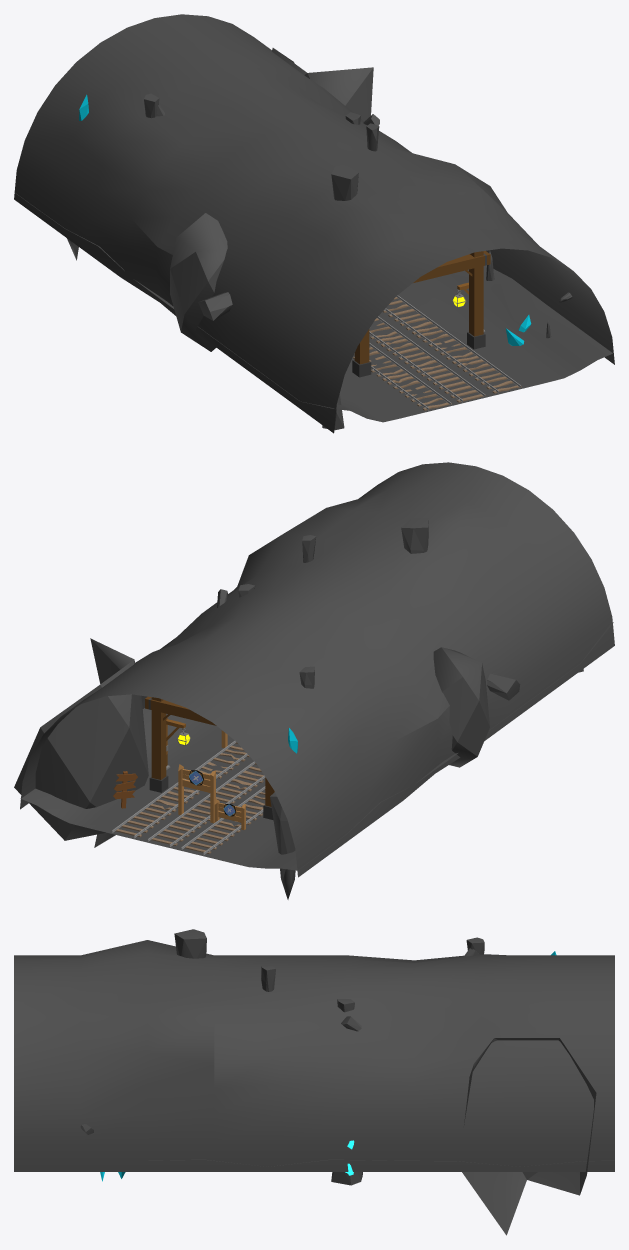
Rendered from Modulo Obstaculo 5.fbx.
3 renders of one model, top to bottom at view 1: azimuth 30°, elevation 25°; view 2: azimuth 150°, elevation 25°; view 3: azimuth 270°, elevation 25°, orthographic. The views are drawn at different scales.
Parts seen in each view (by area): view 1: Plane.002; view 2: Plane.002; view 3: Plane.002.
Boxes of the visible parts, x1,y1,x2,y2 form: Plane.002: (14, 14, 614, 433); Plane.002: (14, 462, 614, 899); Plane.002: (14, 929, 614, 1235).
Size of the model in its own units: 2716 by 2006 by 4761.
